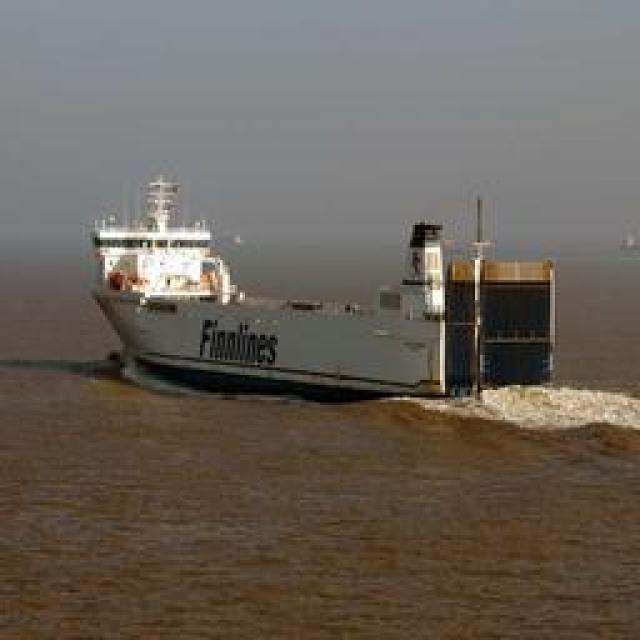CIV_Ship: (84, 175, 462, 395)
